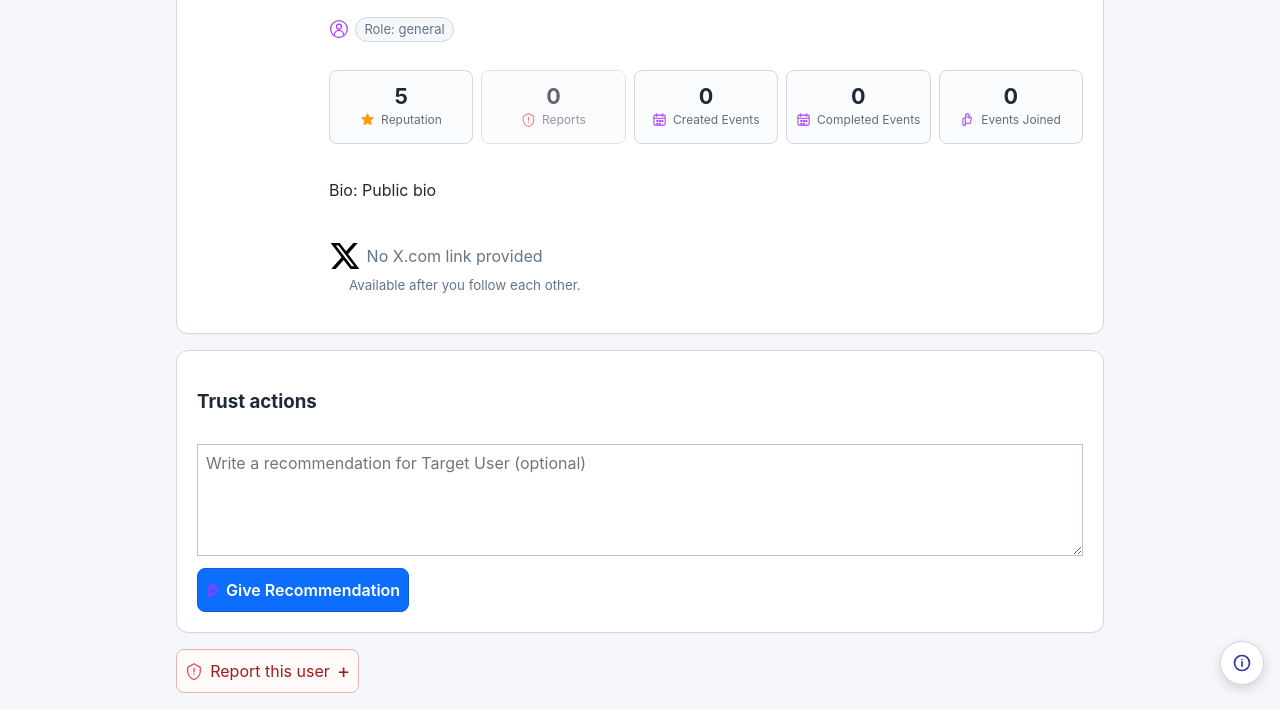
Scenario: ProfilePage › shows success message when recommendation is submitted via Edge Function
The width and height of the screenshot is (1280, 709).
(page scrolled)
Step 1. Click the button "Give Recommendation" → (303, 590), box x1=197 y1=568 x2=409 y2=612
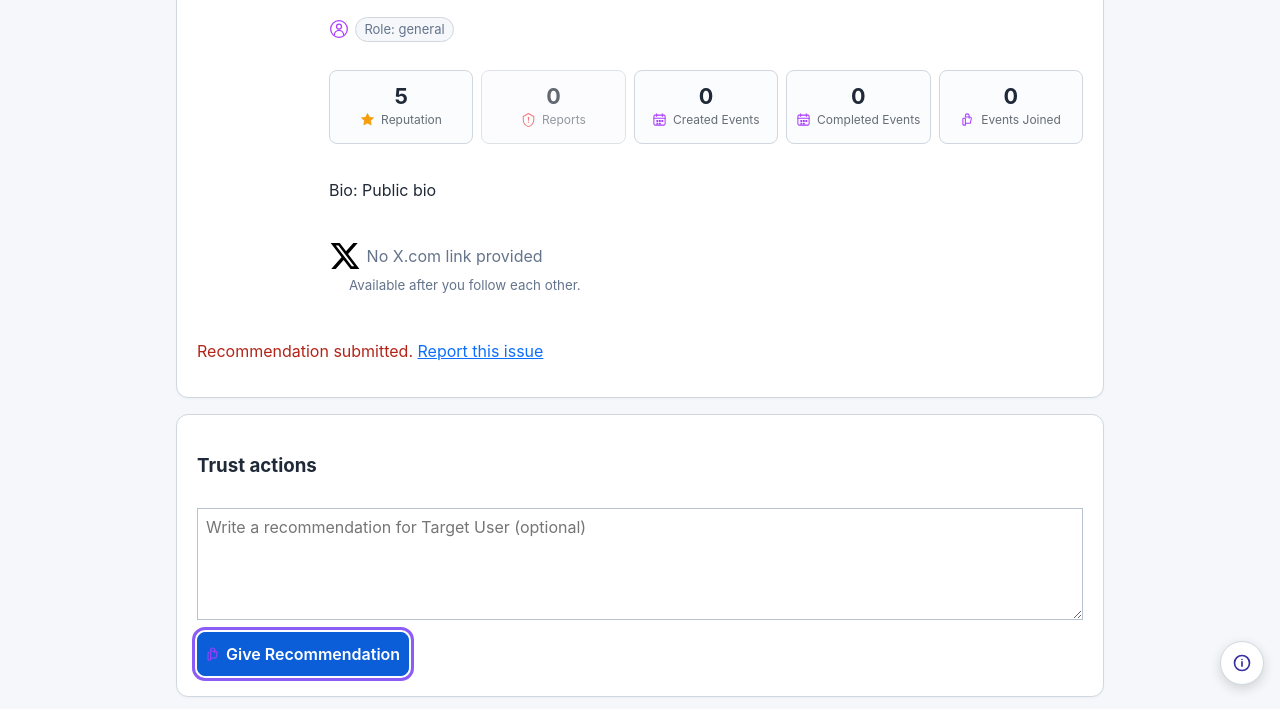
Expected: the text "Recommendation submitted." is shown, x1=197 y1=341 x2=413 y2=361
